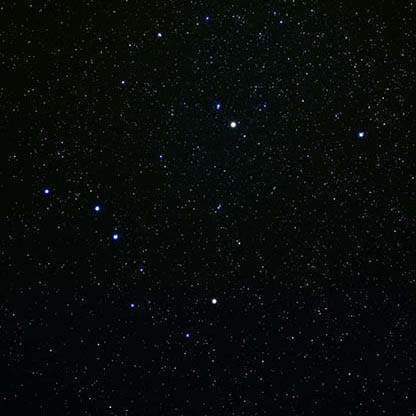Ursa Major: (80, 194, 109, 224), (34, 177, 56, 205), (129, 257, 153, 282), (205, 295, 230, 315), (103, 228, 125, 249), (120, 295, 142, 315), (179, 328, 195, 345)
